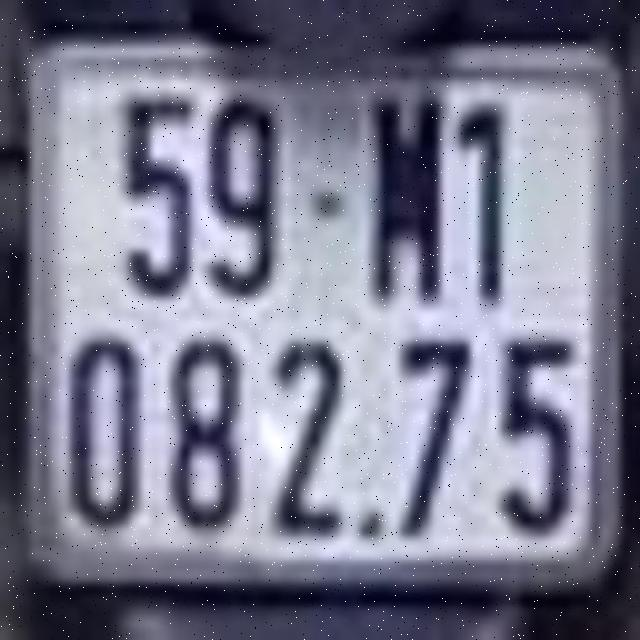0: (67, 333, 140, 529)
1: (459, 102, 507, 302)
2: (272, 338, 343, 535)
5: (502, 334, 578, 536), (122, 94, 195, 298)
7: (398, 334, 471, 539)
8: (173, 340, 240, 529)
9: (208, 102, 274, 297)
M: (375, 96, 444, 307)
